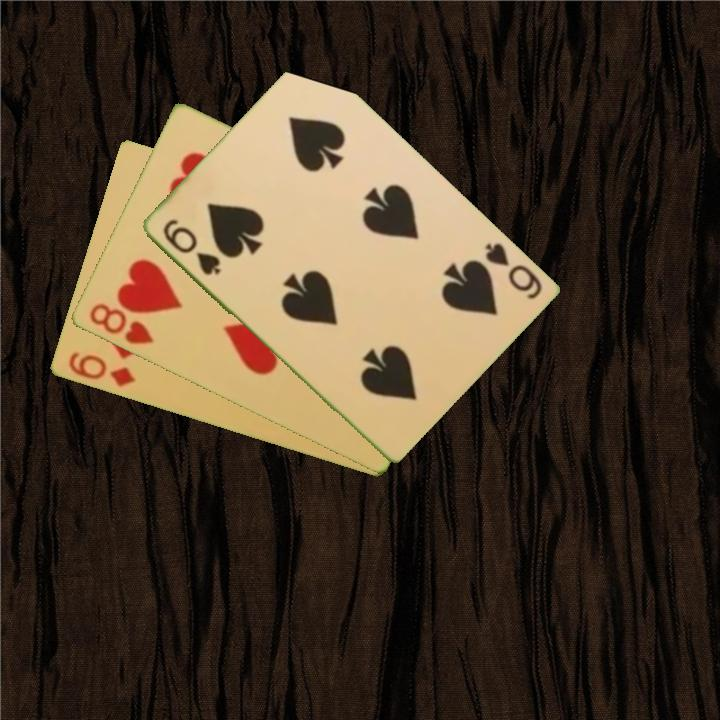6d: (64, 349, 138, 391)
6s: (158, 215, 223, 279), (480, 239, 545, 302)
8h: (85, 299, 156, 348)
